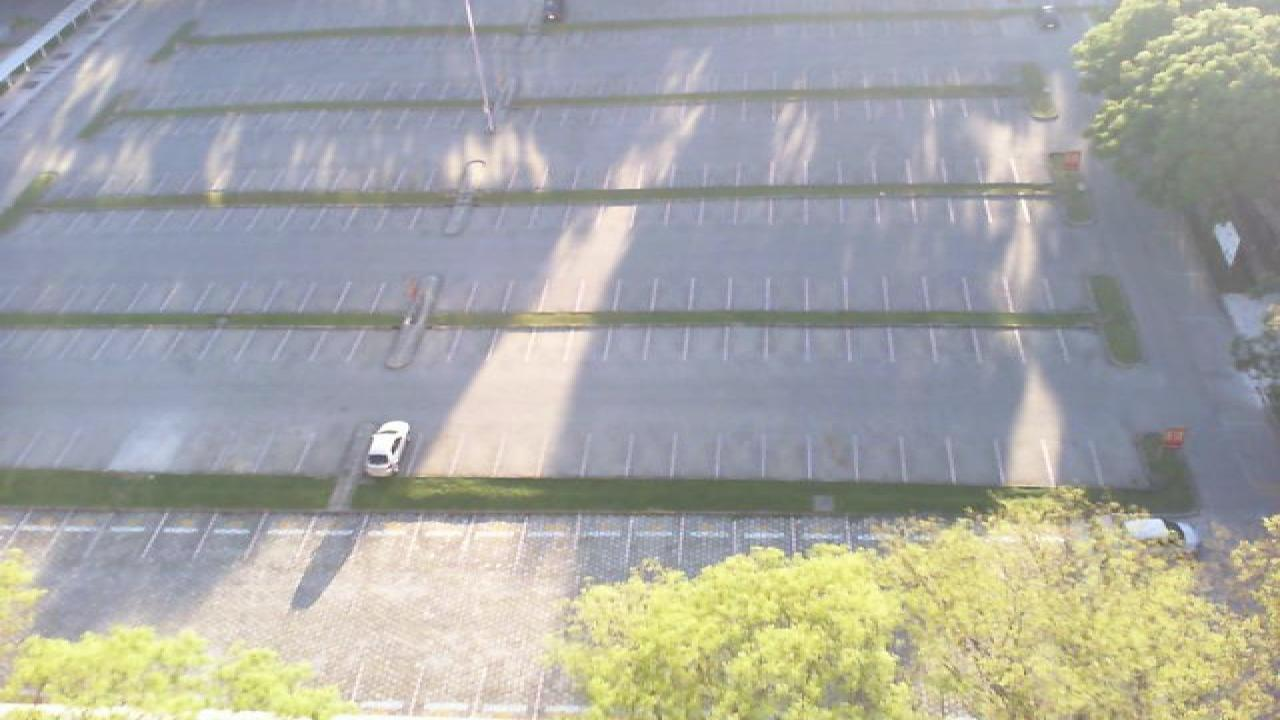Car: (362, 420, 412, 477), (1118, 516, 1200, 548)
